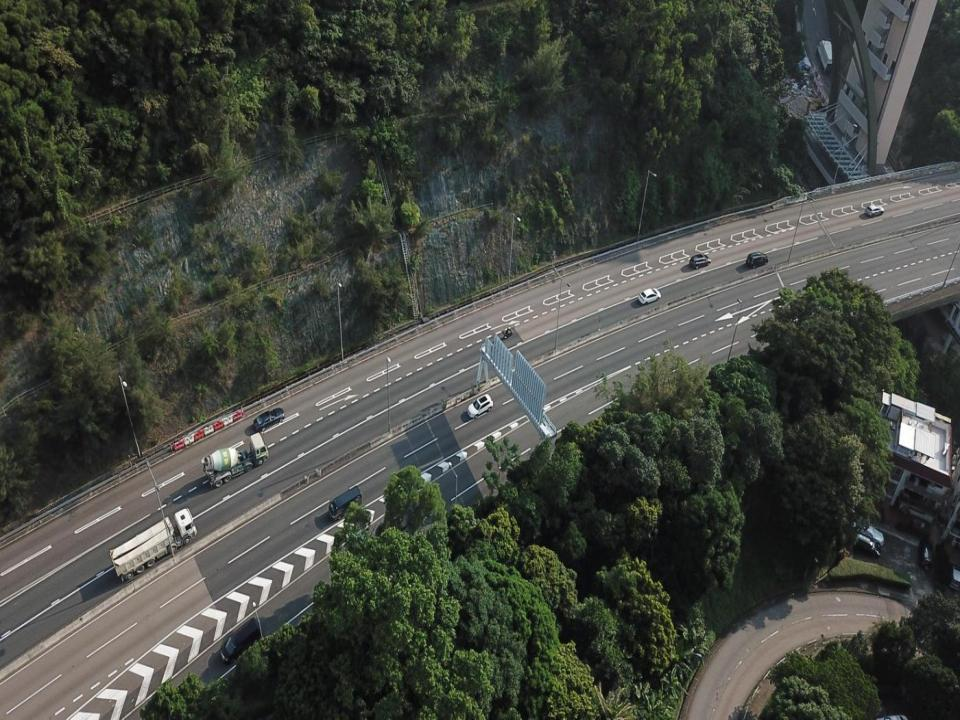car: (852, 520, 884, 547), (851, 532, 882, 559), (252, 407, 285, 432), (466, 394, 494, 419), (918, 539, 935, 573), (688, 252, 712, 271), (745, 251, 769, 269), (948, 556, 960, 591), (638, 287, 661, 305), (864, 203, 885, 218)
truck: (108, 507, 198, 582), (200, 432, 269, 488), (816, 38, 836, 75)
van: (220, 615, 262, 664), (328, 485, 363, 520)
